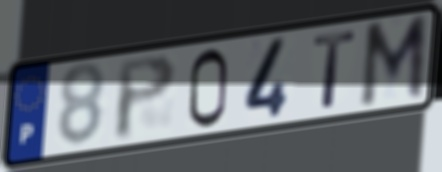0: (187, 45, 230, 130)
4: (241, 33, 295, 124)
8: (54, 61, 111, 152)
M: (356, 11, 431, 113)
P: (113, 51, 179, 143)
T: (311, 27, 358, 112)
